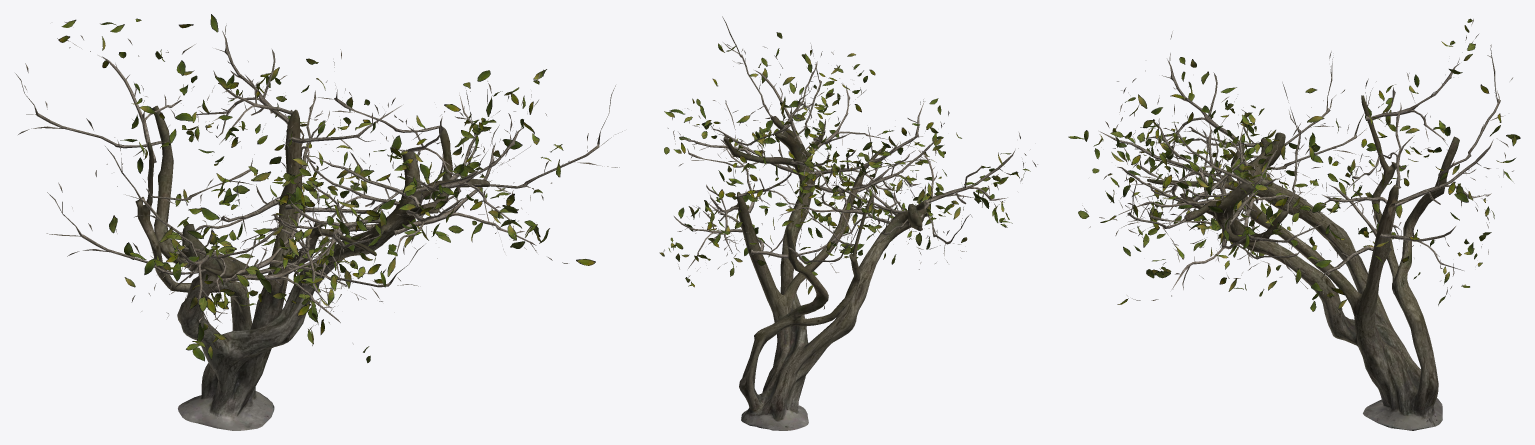
The model's file is tree_a_far.glb.
3 views of the same model, side by side, from view 1: azimuth 30°, elevation 25°; view 2: azimuth 150°, elevation 25°; view 3: azimuth 270°, elevation 25° (orthographic). The views are drawn at different scales.
Parts seen in each view (by area): view 1: island_tree_02_LOD0; view 2: island_tree_02_LOD0; view 3: island_tree_02_LOD0.
Part boxes in pixels (bbox=[...]): island_tree_02_LOD0: bbox=[15, 14, 622, 430]; island_tree_02_LOD0: bbox=[659, 16, 1037, 430]; island_tree_02_LOD0: bbox=[1068, 18, 1520, 430].
Bounding box in the file's own units: 4.05 × 3.36 × 3.93.
Materials: 3 (3 with a texture image).
